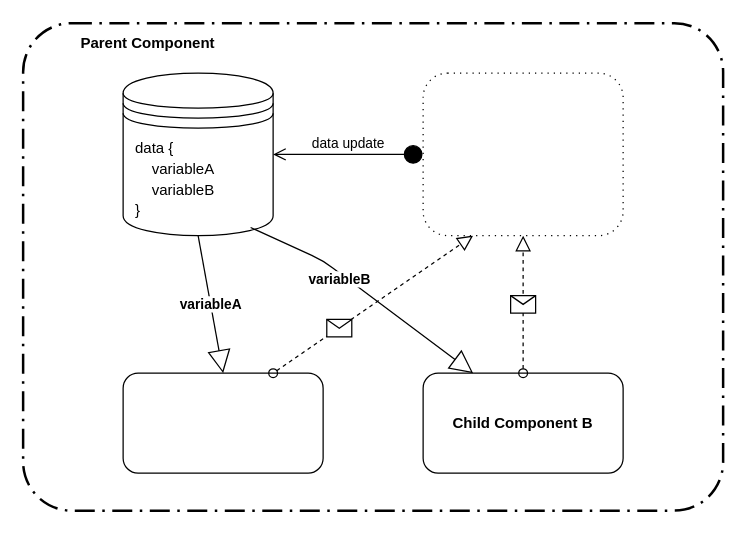
This 745x533 diagram has some shape labels left out. The centre of each missing label's shape, as x and y in pixels:
"Child Component A" goes at point (222, 422).
"methods: { handlerA(message) {}, handlerB(message) {} }" goes at point (522, 154).
